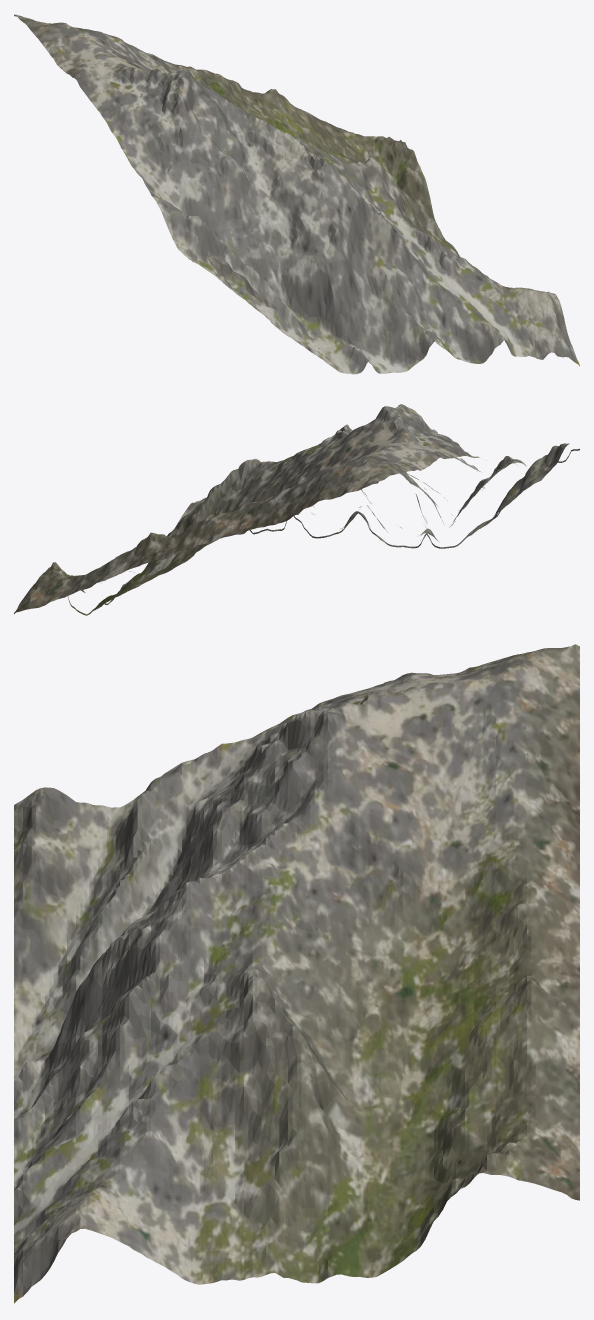
3 views of the same model, one above another, from view 1: azimuth 30°, elevation 25°; view 2: azimuth 150°, elevation 25°; view 3: azimuth 270°, elevation 25° (orthographic). The views are drawn at different scales.
Bounding box in the file's own units: 250 × 194 × 241.
1 material, 1 textured.
